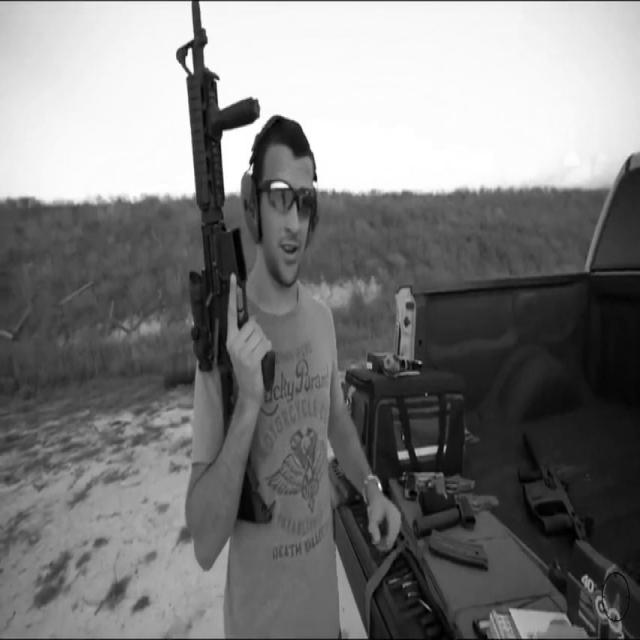Sniper: (106, 0, 342, 568)
